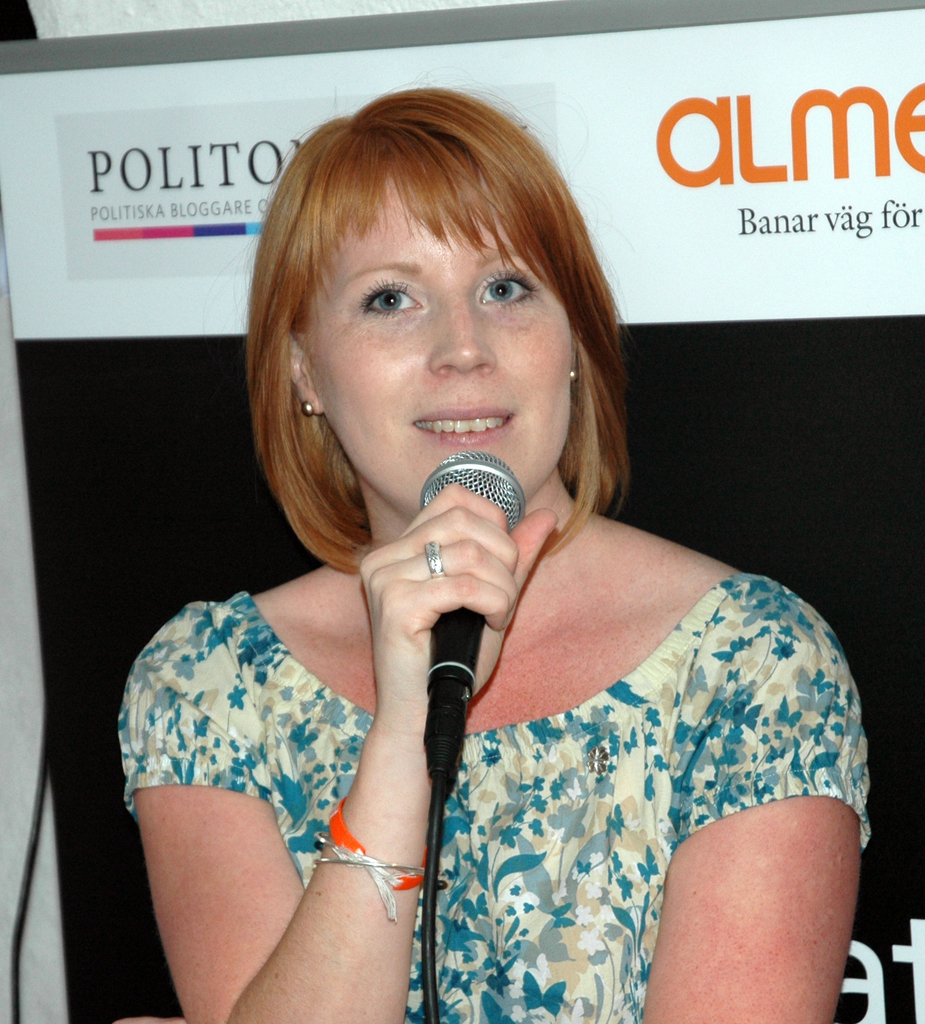Human_hand: (355, 479, 559, 736)
